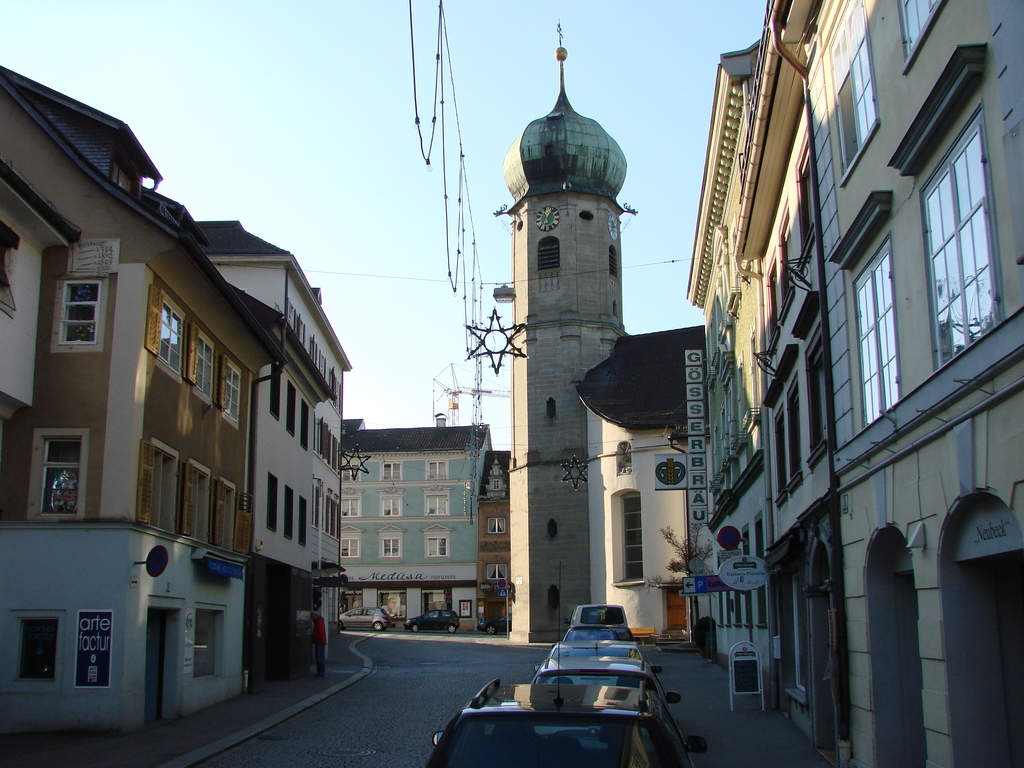Car: (423, 671, 709, 767), (536, 627, 645, 686), (405, 604, 463, 631), (566, 622, 634, 641), (340, 608, 391, 631), (570, 607, 627, 624)
